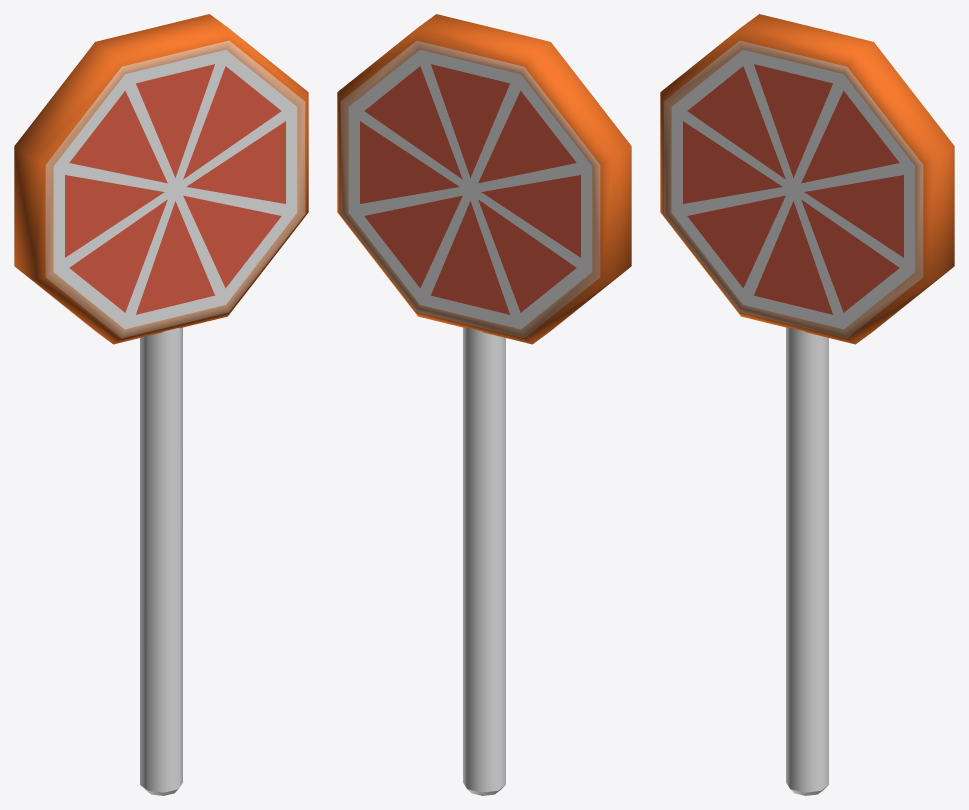
The model's file is Candy_15.fbx.
The picture shows the model from 3 angles, left to right: view 1: azimuth 30°, elevation 25°; view 2: azimuth 150°, elevation 25°; view 3: azimuth 330°, elevation 25°; orthographic projection.
Visible parts, largest first — view 1: Candy_15; view 2: Candy_15; view 3: Candy_15.
Part boxes in pixels (<box>): Candy_15: <box>14,14,308,795</box>; Candy_15: <box>337,14,631,795</box>; Candy_15: <box>660,14,954,795</box>.
Size of the model in its own units: 1.1 by 2.87 by 0.193.
